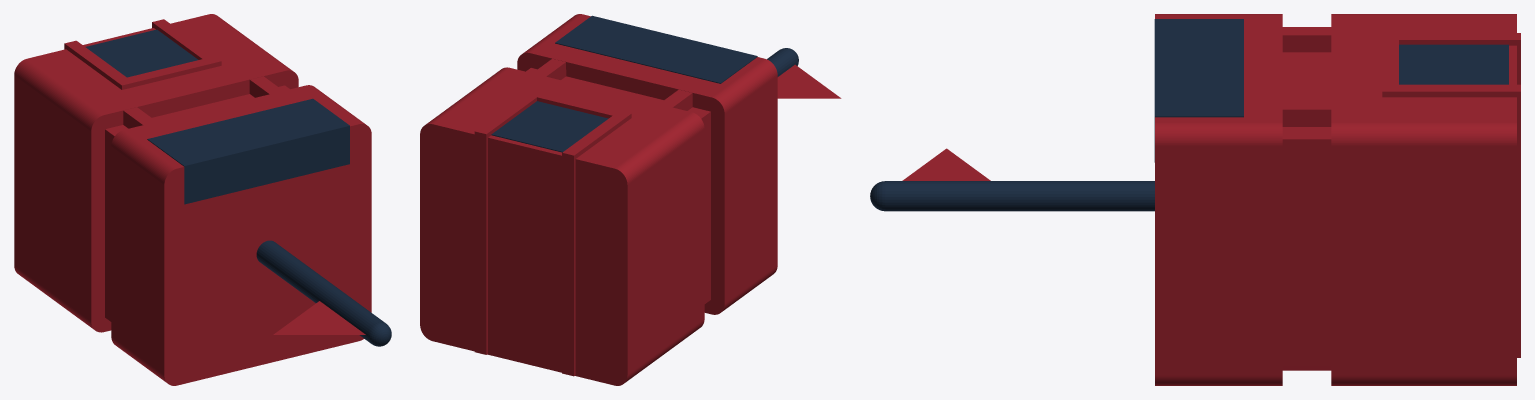
File: bayrakcha.fbx
3 renders of one model, left to right at view 1: azimuth 30°, elevation 25°; view 2: azimuth 150°, elevation 25°; view 3: azimuth 270°, elevation 25°, orthographic. The views are drawn at different scales.
Parts seen in each view (by area): view 1: Cube.005, Cube.007, Cylinder.008, Cube.010, Cube.014, Circle, Cube.020; view 2: Cube.005, Cube.014, Cube.007, Cube.010, Circle, Cube.020, Cylinder.008; view 3: Cube.005, Cube.007, Cylinder.008, Cube.014, Cube.010, Cube.020, Circle.
Boxes of the visible parts, box(x1,y1,x2,y2) form: Cube.005: box(14, 14, 371, 385); Cube.007: box(147, 98, 349, 204); Cylinder.008: box(256, 240, 391, 346); Cube.010: box(85, 29, 198, 77); Cube.014: box(64, 19, 221, 89); Circle: box(273, 301, 365, 334); Cube.020: box(123, 76, 283, 128); Cube.005: box(420, 14, 777, 385); Cube.014: box(474, 89, 631, 376); Cube.007: box(555, 15, 757, 83); Cube.010: box(491, 101, 608, 152); Circle: box(777, 64, 841, 98); Cube.020: box(533, 58, 692, 110); Cylinder.008: box(767, 48, 798, 76); Cube.005: box(1155, 14, 1516, 385); Cube.007: box(1154, 19, 1243, 162); Cylinder.008: box(870, 181, 1154, 211); Cube.014: box(1382, 33, 1520, 357); Cube.010: box(1399, 44, 1508, 84); Cube.020: box(1282, 27, 1331, 370); Circle: box(902, 148, 990, 180).
Bounding box in the file's own units: 107 × 109 × 242.
